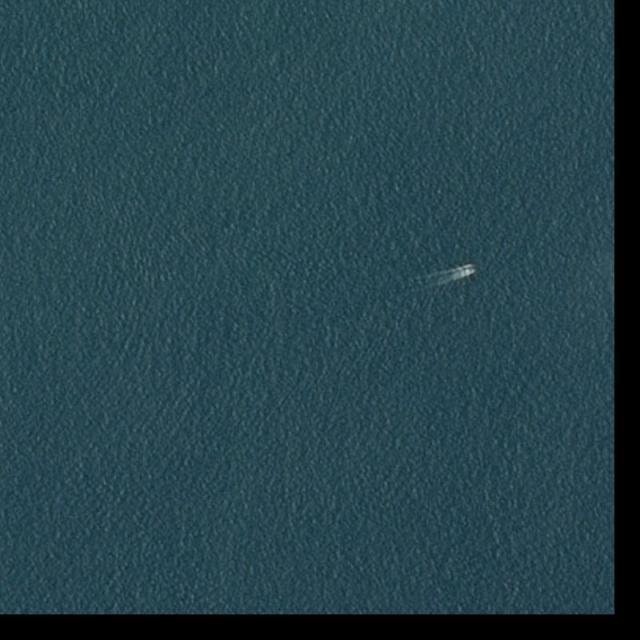ship: (465, 266, 477, 273)
